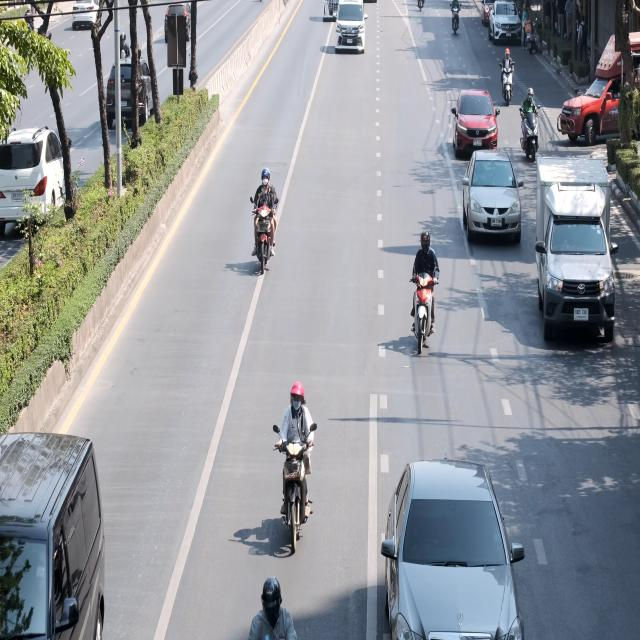cars: (0, 394, 122, 640), (376, 439, 524, 640), (529, 138, 627, 358), (0, 108, 82, 260), (559, 22, 640, 172), (86, 40, 168, 138), (465, 134, 524, 260), (450, 72, 502, 187), (154, 0, 203, 57), (330, 0, 370, 64), (489, 0, 528, 44), (70, 0, 105, 44), (481, 0, 496, 24)
motorcycle: (260, 371, 333, 561), (244, 159, 298, 288), (226, 571, 316, 640), (406, 224, 444, 366), (518, 77, 546, 164), (521, 8, 551, 57), (496, 49, 520, 104), (447, 0, 470, 44)
